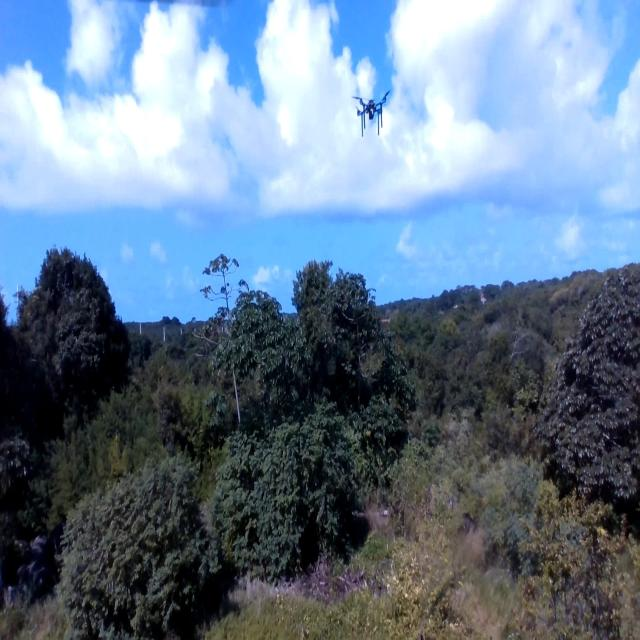-uav-: (351, 80, 397, 148)
